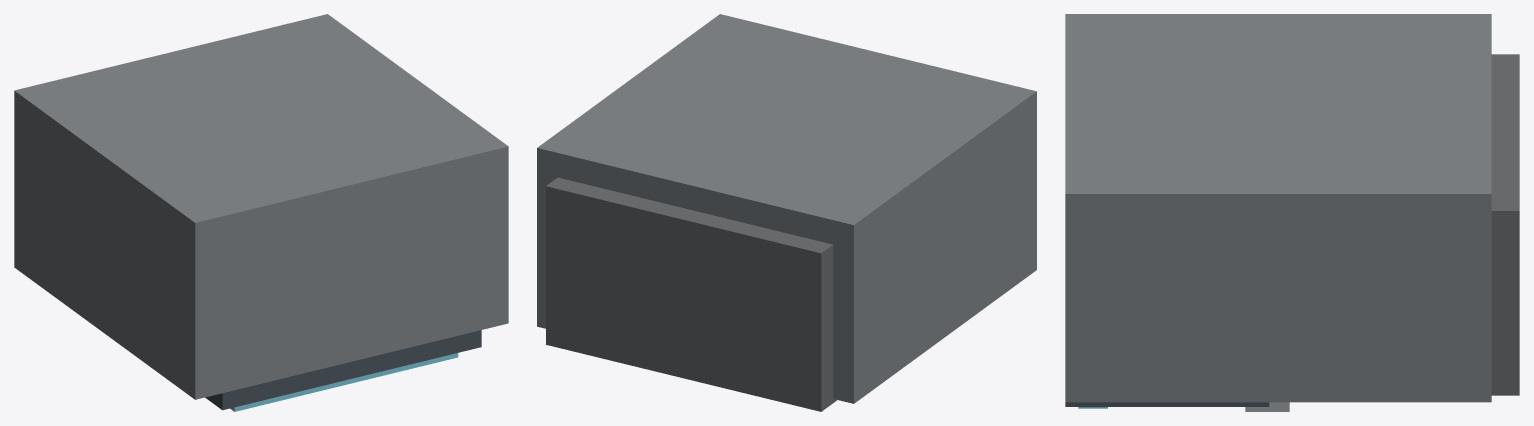
File: terminal_console.glb
3 renders of one model, left to right at view 1: azimuth 30°, elevation 25°; view 2: azimuth 150°, elevation 25°; view 3: azimuth 270°, elevation 25°, orthographic. The views are drawn at different scales.
Parts seen in each view (by area): view 1: part_0, part_1, part_2; view 2: part_0, part_6; view 3: part_0, part_6, part_1.
Boxes of the visible parts, x1,y1,x2,y2 form: part_0: (14, 14, 508, 399); part_1: (205, 330, 481, 410); part_2: (230, 353, 458, 411); part_0: (537, 14, 1036, 403); part_6: (546, 177, 836, 411); part_0: (1065, 14, 1491, 402); part_6: (1491, 54, 1519, 395); part_1: (1065, 402, 1269, 406).
Bounding box in the file's own units: 1.15 × 0.73 × 1.23.
